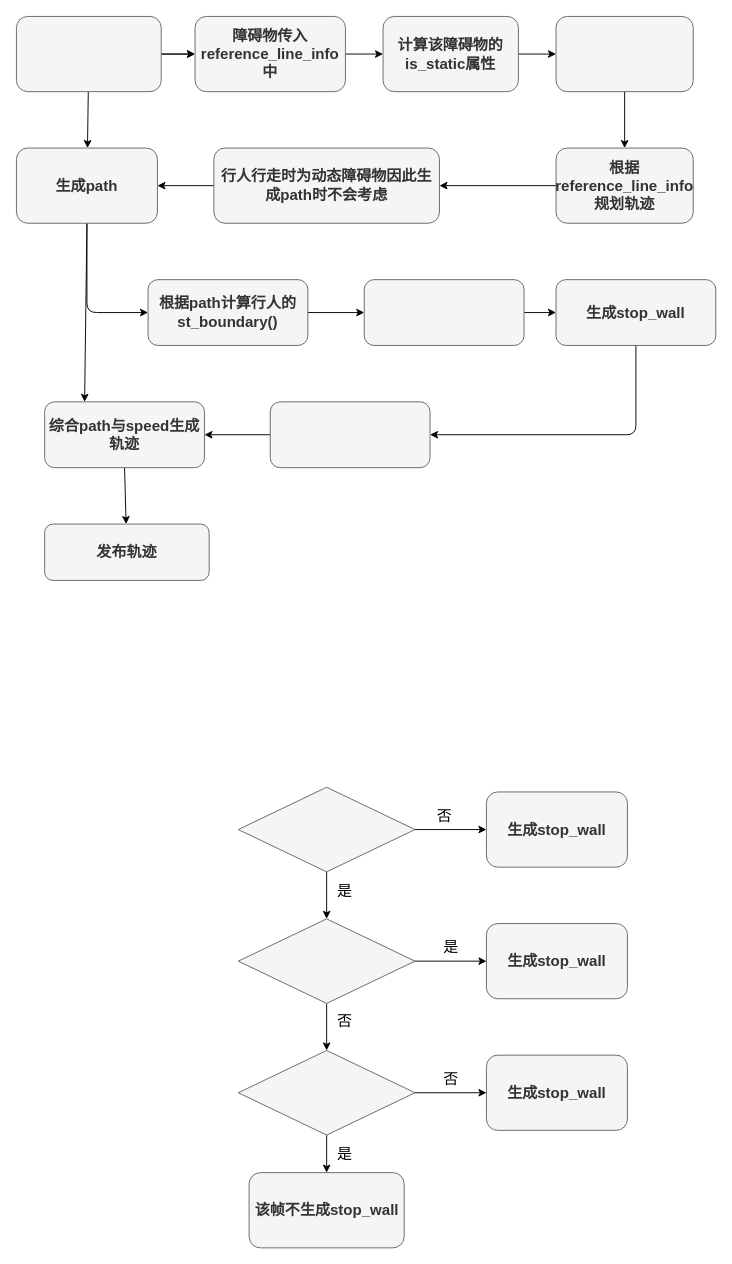
The diagram is 732 pixels wide and 1264 high, and some of its shapes have lost their labels. Each missing label, with the box of its shape:
在speed_decider中对行人进行判定，检查是否需要停车: (363, 279, 524, 345)
根据stop_wall生成减速轨迹: (269, 401, 430, 468)
等待时间大于4s: (237, 1050, 415, 1135)
行人在车前10m内: (237, 786, 415, 872)
行人速度大于0.3: (237, 918, 415, 1003)
计算该障碍物在引导线上的sl_boundary与st_boundary: (555, 16, 693, 92)
预测模块输出障碍物信息: (16, 16, 161, 92)
